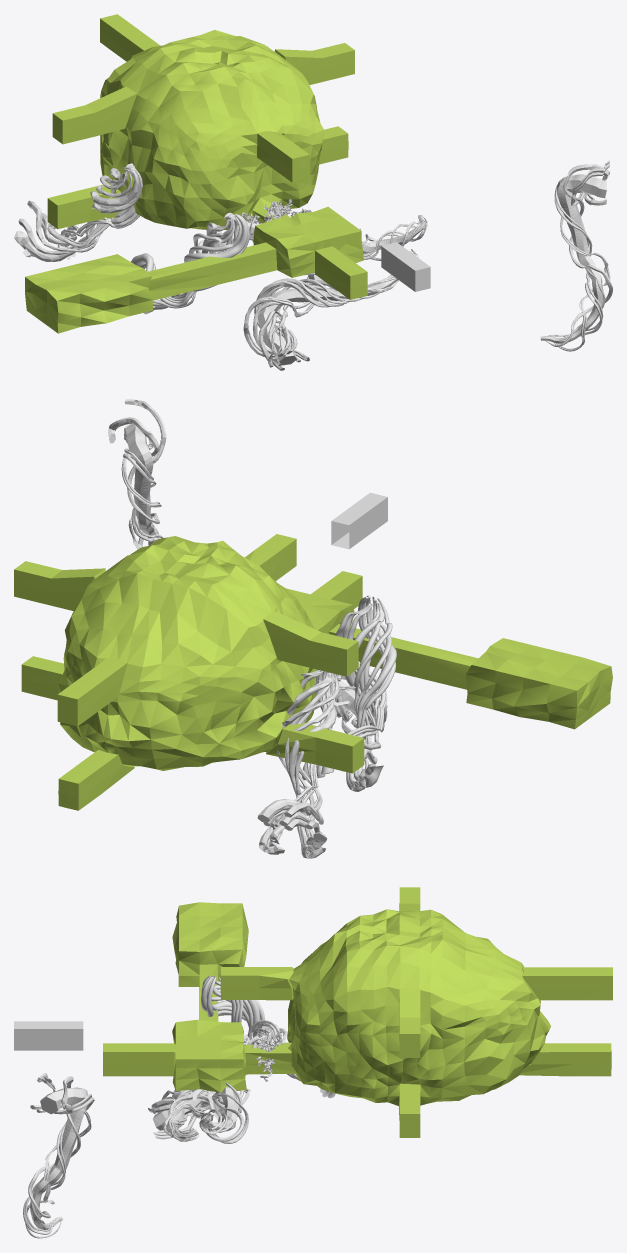
The model's file is Treelevel_Test_Eptie.fbx.
The picture shows the model from 3 angles, top to bottom: view 1: azimuth 30°, elevation 25°; view 2: azimuth 150°, elevation 25°; view 3: azimuth 270°, elevation 25°; orthographic projection. The views are drawn at different scales.
Visible parts, largest first — view 1: Poziom, BezierCurve.002, BezierCurve.001, BezierCurve.004, BezierCurve.003, Korytarz, BezierCurve; view 2: Poziom, BezierCurve.004, BezierCurve.003, BezierCurve.002, Korytarz, BezierCurve.001; view 3: Poziom, BezierCurve.002, BezierCurve.001, Korytarz, BezierCurve.003, BezierCurve.
Part boxes in pixels (x1,y1,x2,y2): Poziom: (25,14,367,333); BezierCurve.002: (304,159,612,351); BezierCurve.001: (243,249,418,370); BezierCurve.004: (14,163,142,261); BezierCurve.003: (131,212,249,314); Korytarz: (381,242,430,291); BezierCurve: (198,201,284,253); Poziom: (14,534,612,810); BezierCurve.004: (257,669,338,858); BezierCurve.003: (301,595,396,791); BezierCurve.002: (108,399,166,549); Korytarz: (331,492,387,549); BezierCurve.001: (334,673,387,739); Poziom: (103,887,612,1137); BezierCurve.002: (23,1073,250,1238); BezierCurve.001: (148,1089,217,1141); Korytarz: (14,1021,83,1050); BezierCurve.003: (201,975,335,1098); BezierCurve: (244,1020,287,1051).
Size of the model in its own units: 17439 by 7671 by 17752.
